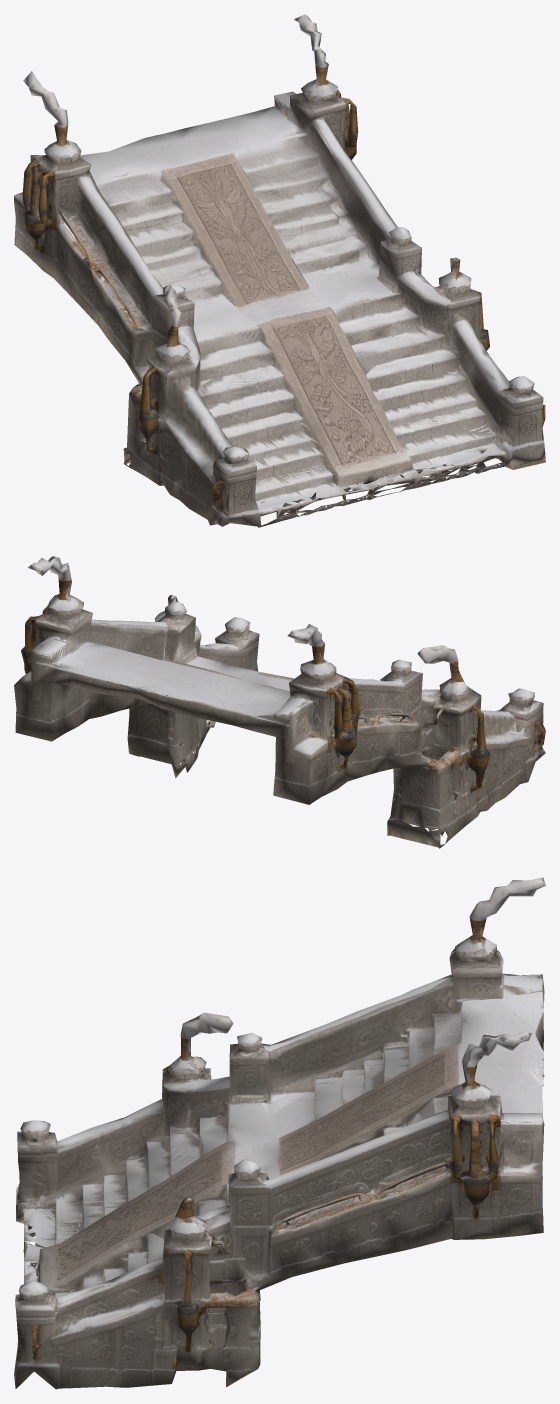
The model's file is PR_Dapdo.fbx.
3 views of the same model, one above another, from view 1: azimuth 30°, elevation 25°; view 2: azimuth 150°, elevation 25°; view 3: azimuth 270°, elevation 25° (orthographic). The views are drawn at different scales.
Parts seen in each view (by area): view 1: texture_mapping; view 2: texture_mapping; view 3: texture_mapping.
Part boxes in pixels (<box>): texture_mapping: <box>14,14,545,527</box>; texture_mapping: <box>14,556,545,848</box>; texture_mapping: <box>14,877,545,1389</box>.
Size of the model in its own units: 0.8885 by 1 by 0.7278.
1 material, 1 textured.
